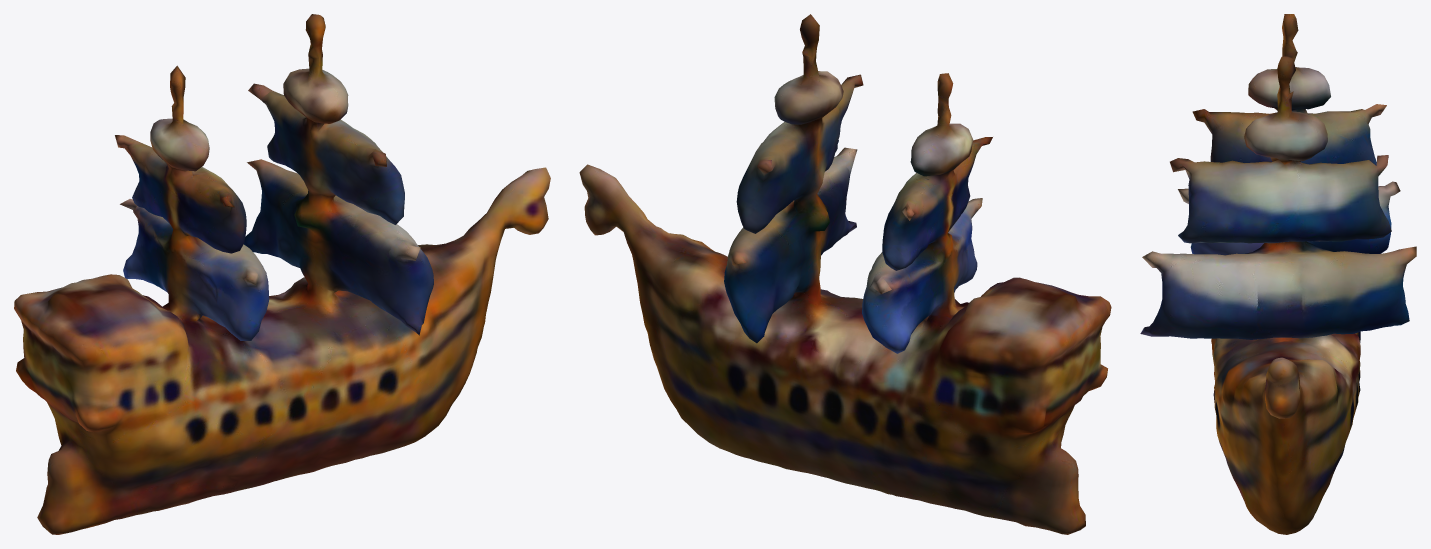
Rendered from ship.glb.
The picture shows the model from 3 angles, left to right: view 1: azimuth 30°, elevation 25°; view 2: azimuth 150°, elevation 25°; view 3: azimuth 270°, elevation 25°; orthographic projection. The views are drawn at different scales.
Parts seen in each view (by area): view 1: Mesh1; view 2: Mesh1; view 3: Mesh1.
Part boxes in pixels (<box>): Mesh1: <box>14,14,550,534</box>; Mesh1: <box>579,14,1111,534</box>; Mesh1: <box>1140,14,1416,534</box>.
Bounding box in the file's own units: 1.2 × 1.03 × 0.5855.
Materials: 1 (1 with a texture image).
